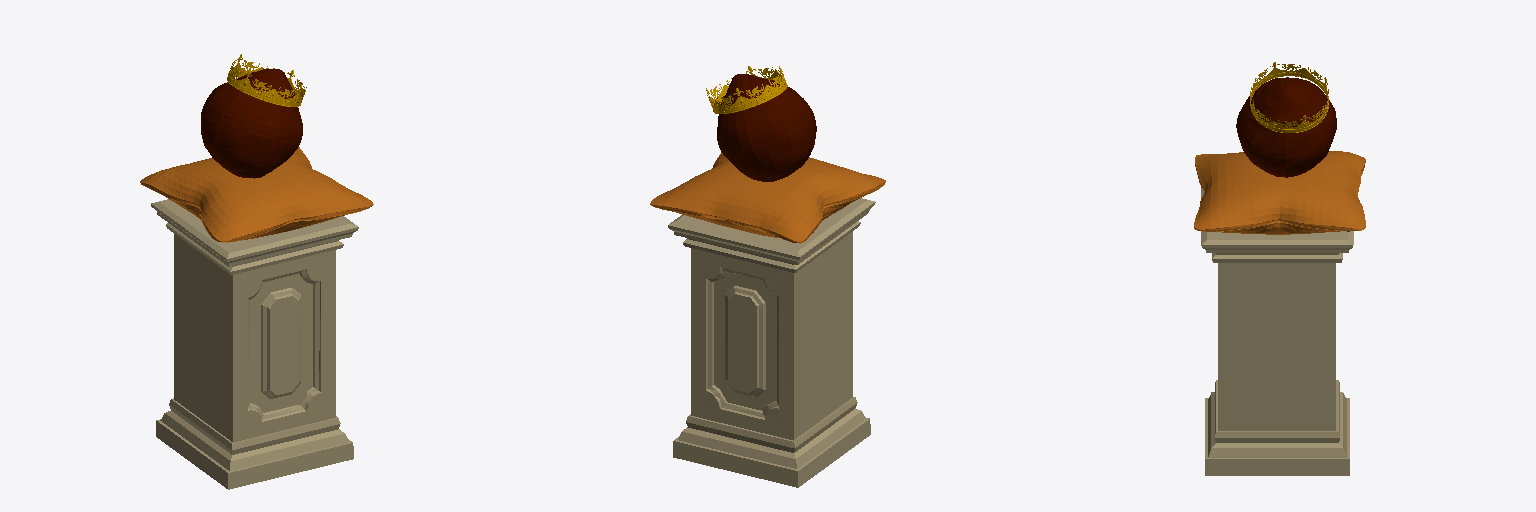
The model's file is trophy_designer.obj.
The picture shows the model from 3 angles: view 1: azimuth 30°, elevation 25°; view 2: azimuth 150°, elevation 25°; view 3: azimuth 270°, elevation 25°; orthographic projection.
Parts seen in each view (by area): view 1: 001_Pedestal_low_poly, pillow, hazelnut.001, Crown; view 2: 001_Pedestal_low_poly, pillow, hazelnut.001, Crown; view 3: 001_Pedestal_low_poly, pillow, hazelnut.001, Crown.
Part boxes in pixels (x1,y1,x2,y2): 001_Pedestal_low_poly: (151, 199, 358, 489); pillow: (140, 147, 373, 242); hazelnut.001: (201, 69, 302, 178); Crown: (227, 54, 306, 106); 001_Pedestal_low_poly: (668, 198, 875, 487); pillow: (650, 152, 885, 243); hazelnut.001: (717, 74, 816, 181); Crown: (706, 66, 787, 113); 001_Pedestal_low_poly: (1201, 188, 1353, 475); pillow: (1194, 151, 1365, 234); hazelnut.001: (1236, 77, 1336, 177); Crown: (1250, 62, 1328, 132).
Bounding box in the file's own units: 2.55 × 5.96 × 2.44.